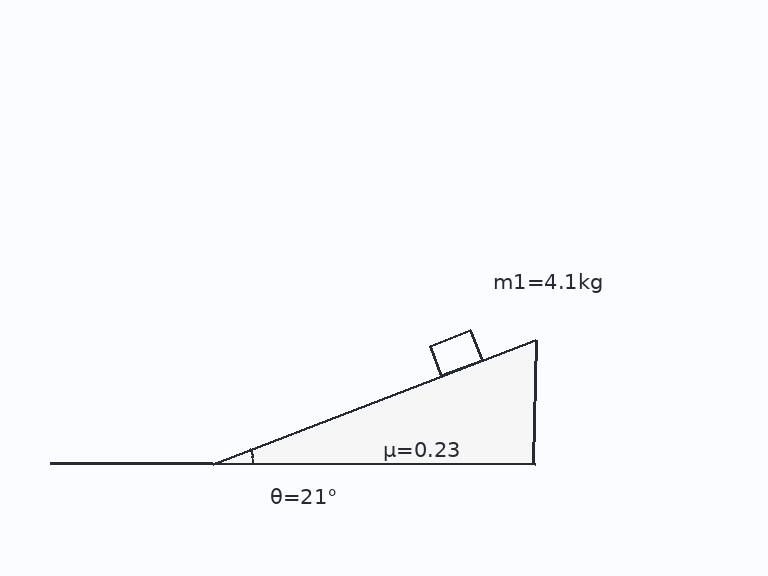block: (427, 328, 484, 378)
ramp: (211, 337, 537, 465)
